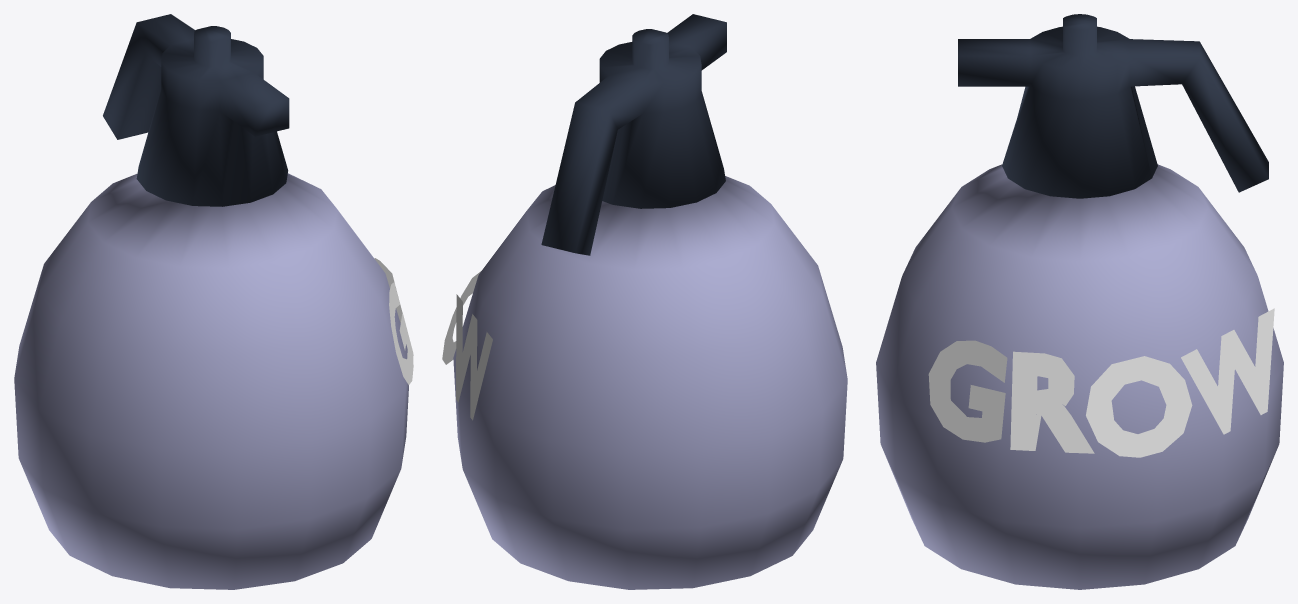
Rendered from GrowTool.fbx.
3 renders of one model, left to right at view 1: azimuth 30°, elevation 25°; view 2: azimuth 150°, elevation 25°; view 3: azimuth 270°, elevation 25°, orthographic. The views are drawn at different scales.
Parts seen in each view (by area): view 1: Grow Tool; view 2: Grow Tool; view 3: Grow Tool.
Part boxes in pixels (x1,y1,x2,y2): Grow Tool: (14, 14, 413, 589); Grow Tool: (442, 14, 847, 589); Grow Tool: (876, 14, 1283, 589).
Bounding box in the file's own units: 77.26 × 103 × 76.43.
